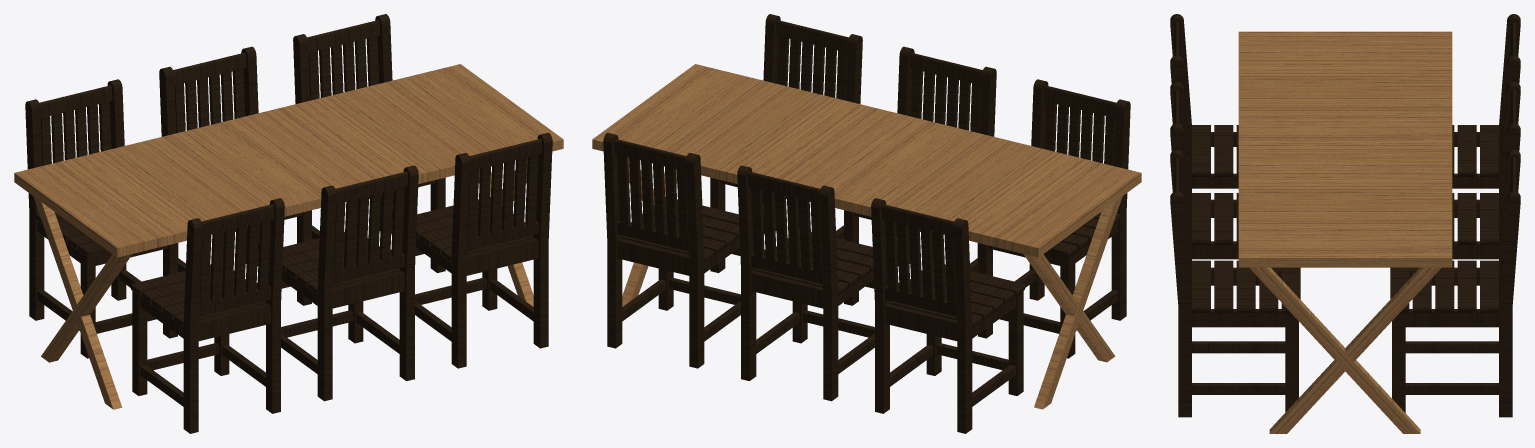
The model's file is table_jardin.glb.
3 renders of one model, left to right at view 1: azimuth 30°, elevation 25°; view 2: azimuth 150°, elevation 25°; view 3: azimuth 270°, elevation 25°, orthographic. The views are drawn at different scales.
Parts seen in each view (by area): view 1: Mesh1__Wood___Rustic____11_0; view 2: Mesh1__Wood___Rustic____11_0; view 3: Mesh1__Wood___Rustic____11_0.
Boxes of the visible parts, left/top/right/bottom form: Mesh1__Wood___Rustic____11_0: left=14, top=14, right=563, bottom=433; Mesh1__Wood___Rustic____11_0: left=592, top=14, right=1141, bottom=433; Mesh1__Wood___Rustic____11_0: left=1170, top=14, right=1520, bottom=433.
Bounding box in the file's own units: 0.02 × 0.00915 × 0.0131.
Materials: 2 (2 with a texture image).
